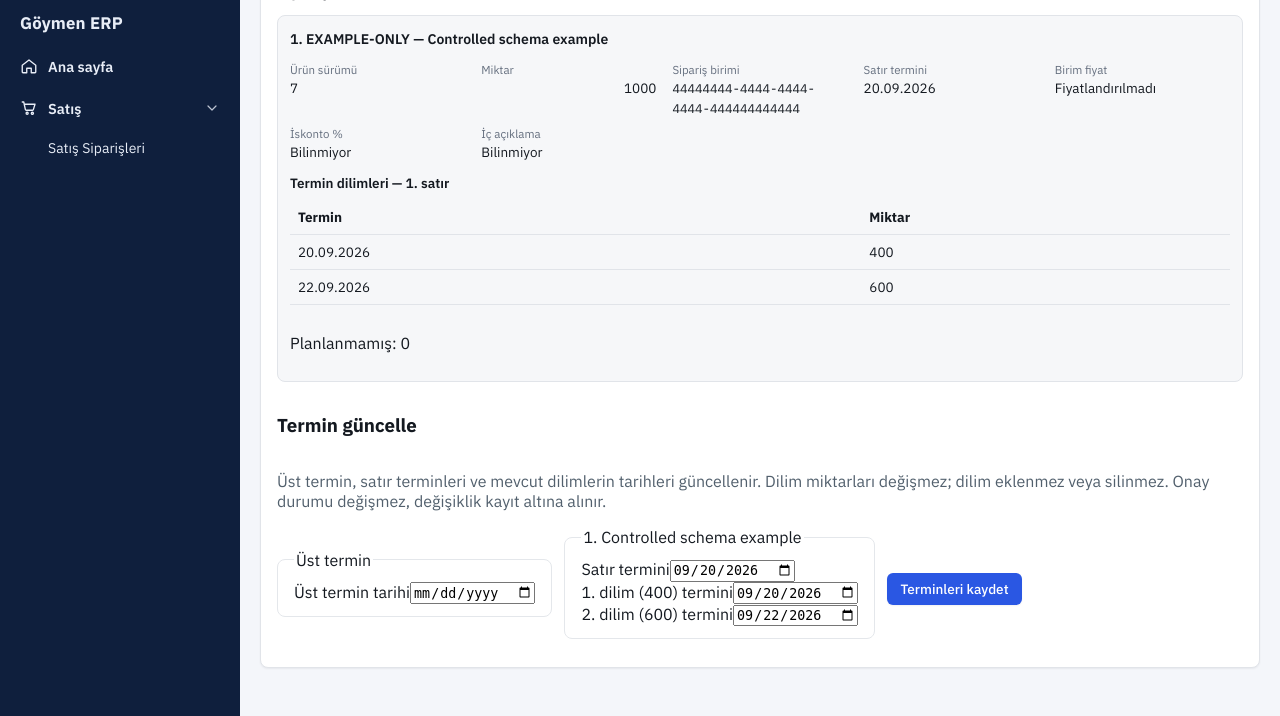
Test: S-04 delivery-schedule update (DEC-SAL-003) › an unknown outcome keeps the key and the values; the retry resends the same snapshot
(page scrolled)
Expected: the element with test id "sales-delivery-schedule-form" is shown, top-left (277, 394), bottom-right (1243, 651)
Type "2026-10-05" into the date field labelled "Satır termini" at x=732, y=571, box top-left (670, 560), bottom-right (795, 582)
(page scrolled)
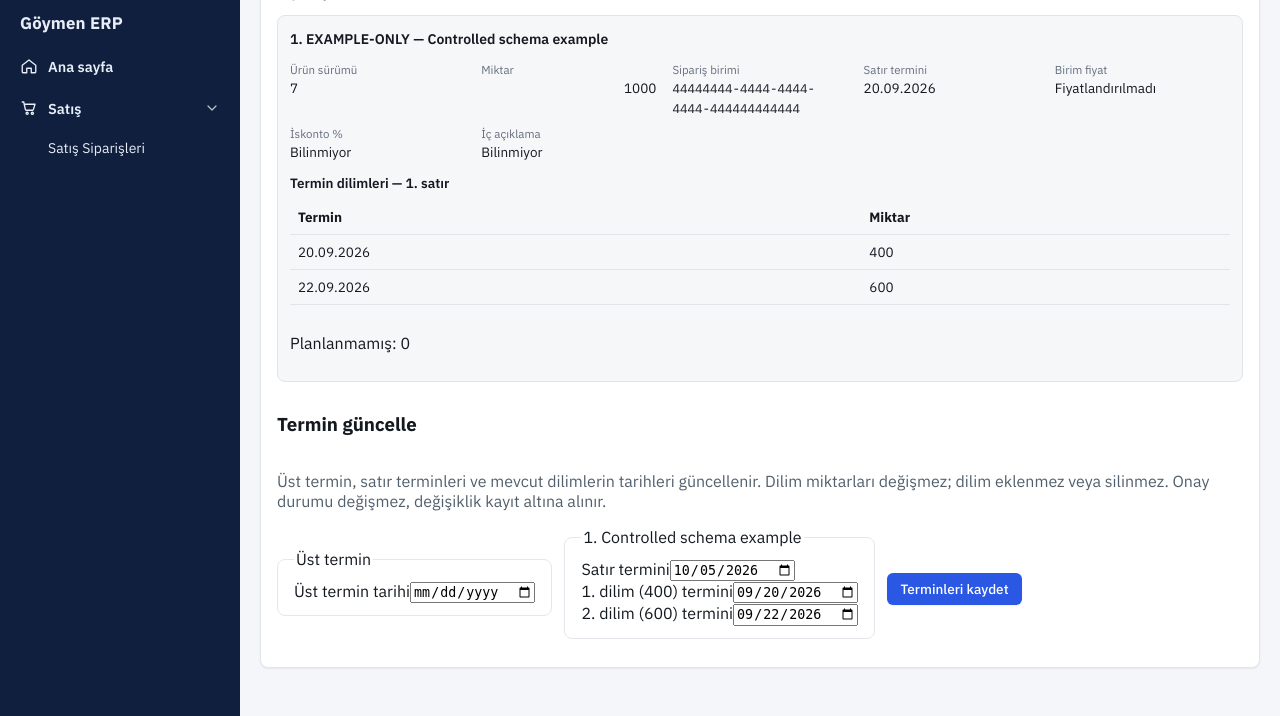
Click the button "Terminleri kaydet" at x=954, y=589, box top-left (887, 573), bottom-right (1022, 605)
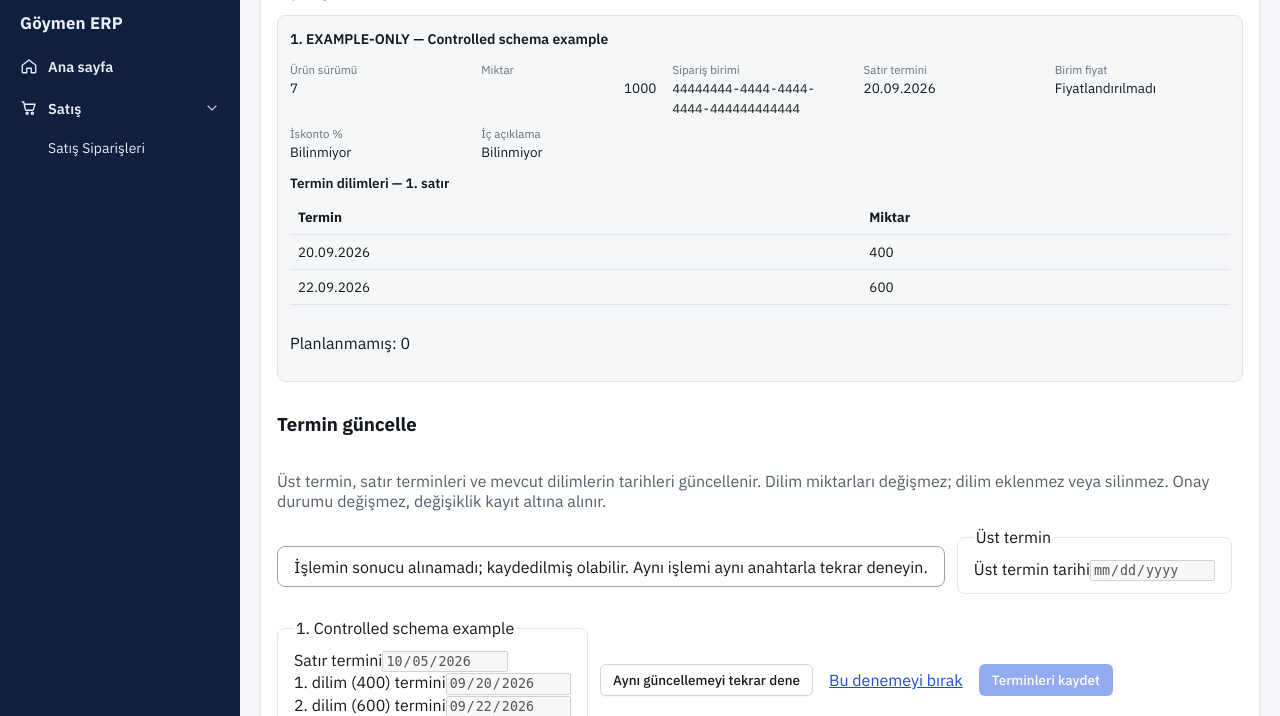
Now the text "İşlemin sonucu alınamadı; kaydedilmiş olabilir. Aynı işlemi aynı anahtarla tekrar deneyin." is shown, box top-left (294, 557), bottom-right (928, 577)
Click the button "Aynı güncellemeyi tekrar dene" at x=706, y=680, box top-left (600, 664), bottom-right (813, 696)
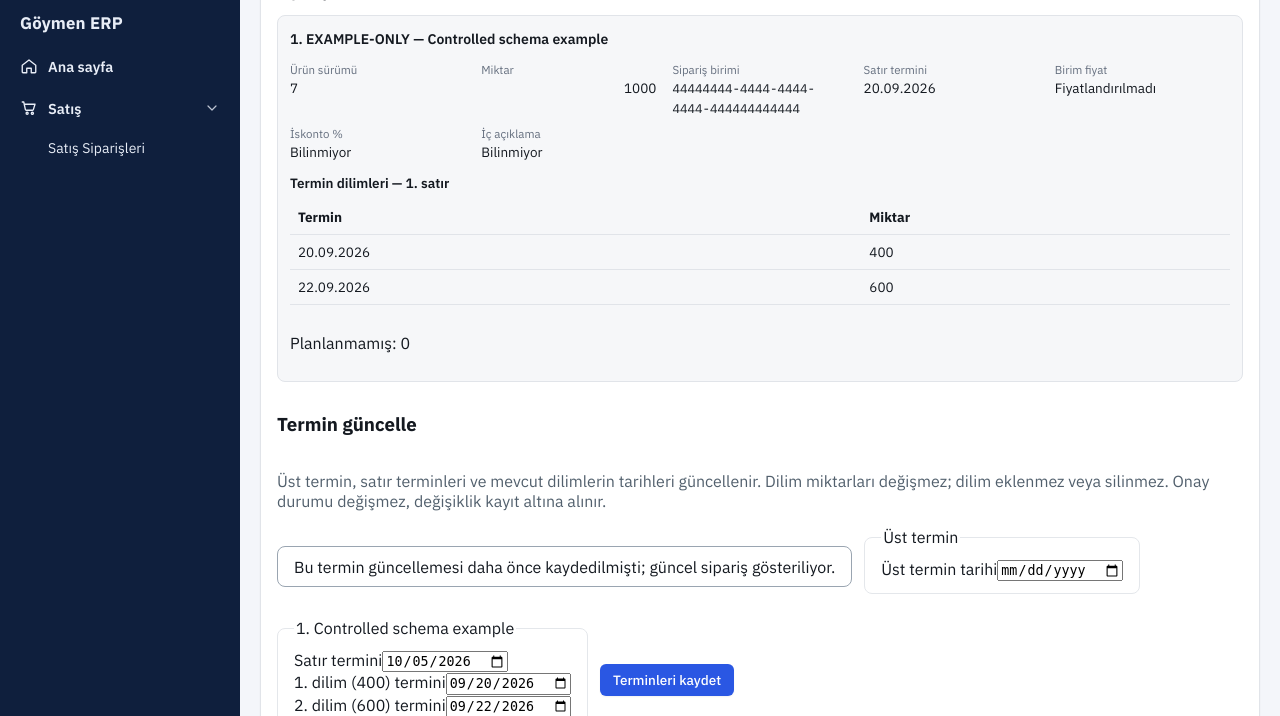
Now the text "Bu termin güncellemesi daha önce kaydedilmişti; güncel sipariş gösteriliyor." is shown, box top-left (277, 546), bottom-right (852, 587)
